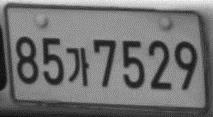2: (147, 39, 172, 90)
5: (121, 39, 145, 88), (41, 36, 64, 85)
7: (92, 38, 116, 88)
8: (15, 35, 39, 84)
9: (173, 40, 198, 90)
가: (65, 46, 89, 87)
